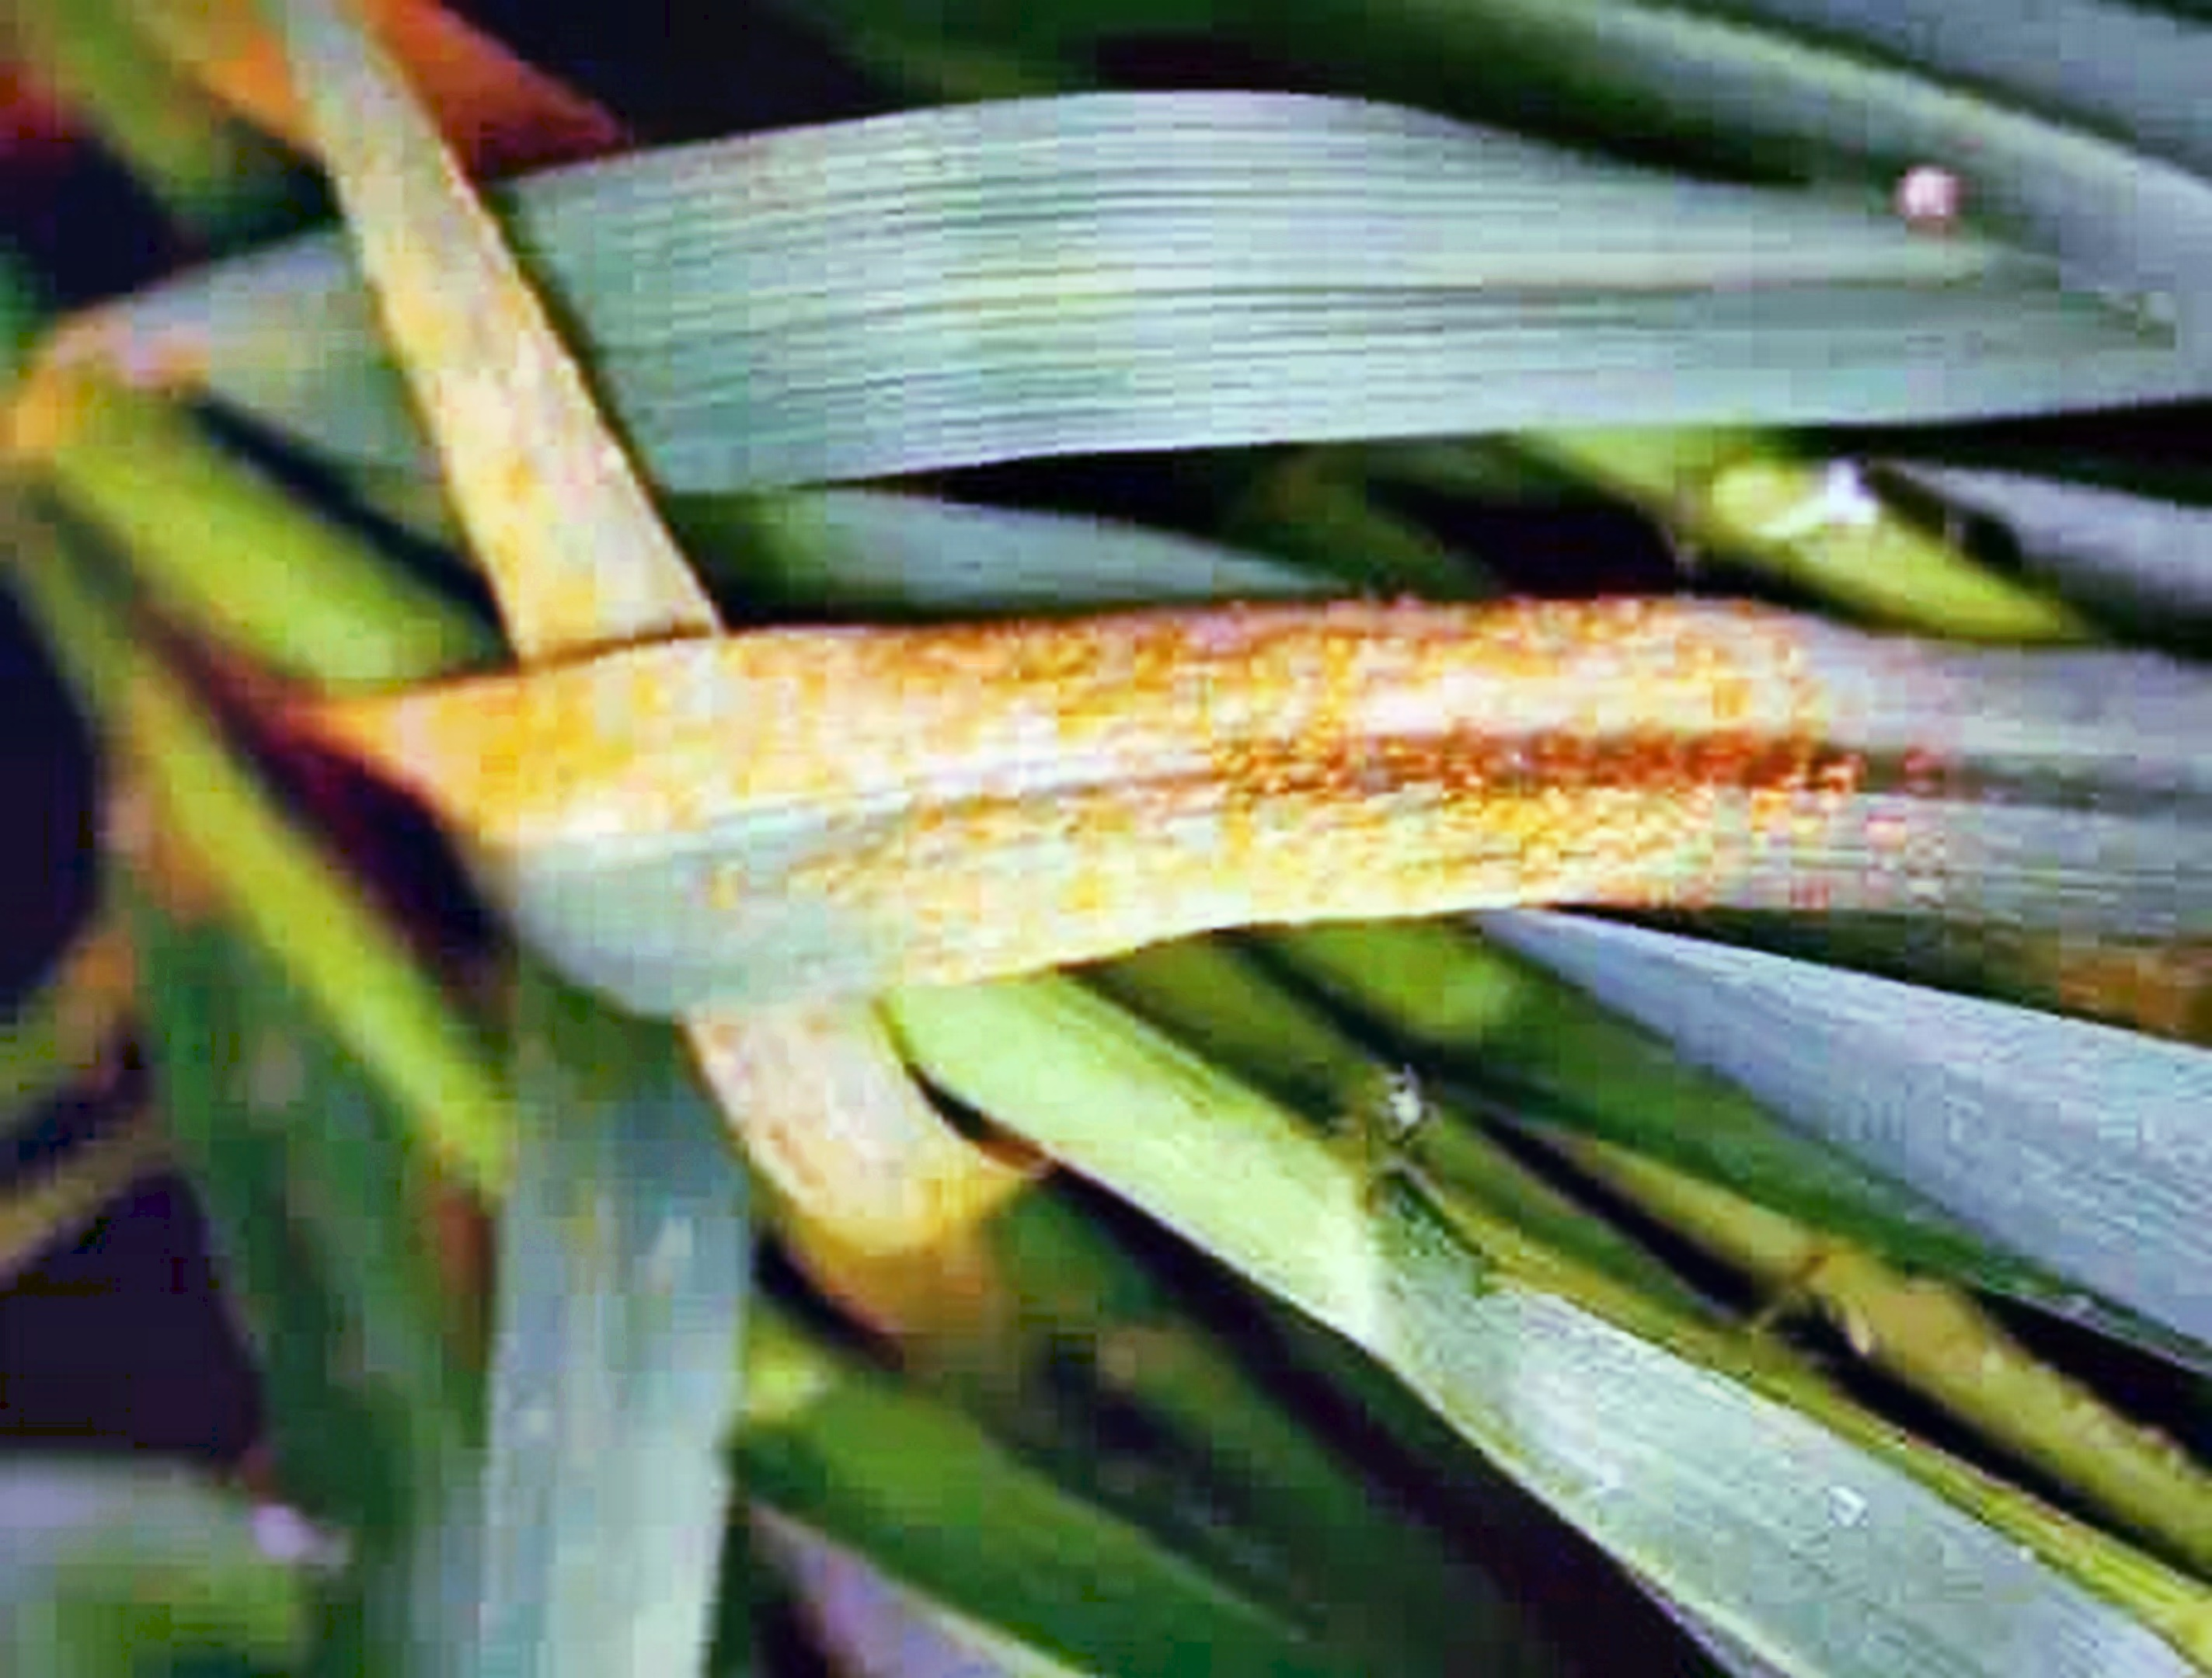Leaf Rust: (924, 552, 1865, 961)
